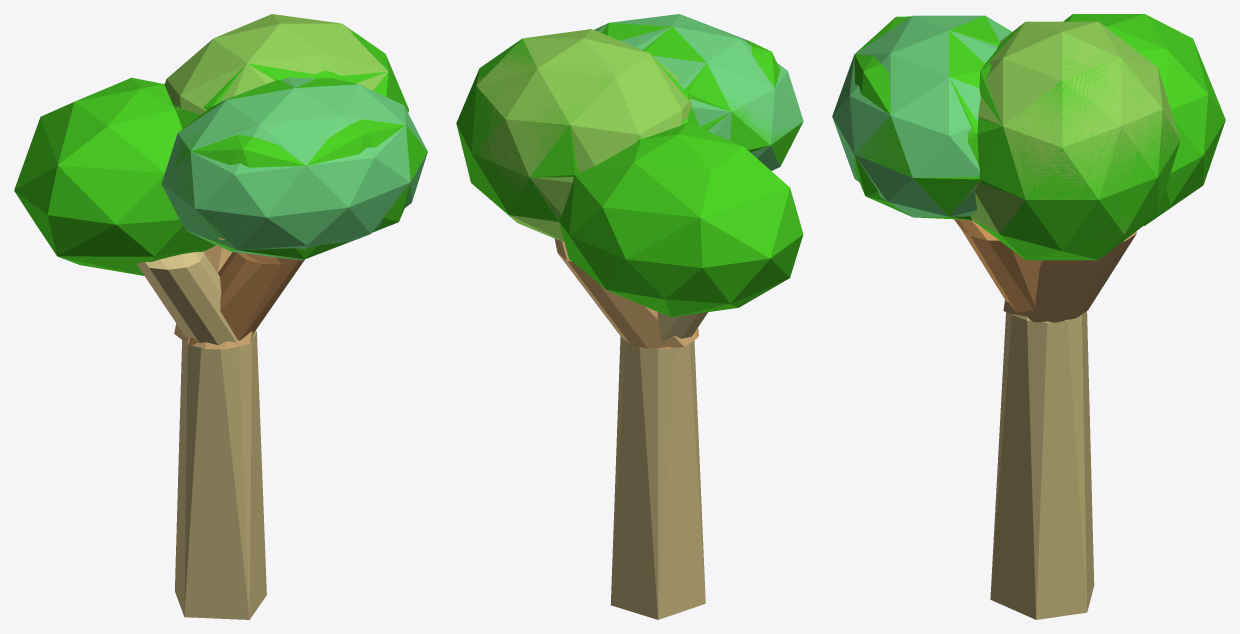
The model's file is tree.fbx.
3 views of the same model, side by side, from view 1: azimuth 30°, elevation 25°; view 2: azimuth 150°, elevation 25°; view 3: azimuth 270°, elevation 25° (orthographic). The views are drawn at different scales.
Visible parts, largest first — view 1: Icosphere.002, Icosphere.001, Cylinder, Icosphere, Cylinder.002, Cylinder.001; view 2: Icosphere.002, Cylinder, Icosphere, Icosphere.001, Cylinder.001; view 3: Icosphere.002, Cylinder, Icosphere, Icosphere.001, Cylinder.001, Cylinder.002.
Boxes of the visible parts, x1,y1,x2,y2 form: Icosphere.002: [14, 29, 427, 275]; Icosphere.001: [161, 77, 427, 260]; Cylinder: [137, 251, 266, 619]; Icosphere: [165, 14, 408, 114]; Cylinder.002: [189, 237, 304, 344]; Cylinder.001: [174, 245, 253, 349]; Icosphere.002: [456, 23, 803, 317]; Cylinder: [610, 312, 707, 619]; Icosphere: [472, 29, 691, 242]; Icosphere.001: [594, 14, 803, 170]; Cylinder.001: [554, 239, 698, 348]; Icosphere.002: [854, 14, 1225, 260]; Cylinder: [990, 311, 1094, 619]; Icosphere: [971, 21, 1179, 259]; Icosphere.001: [832, 15, 1010, 217]; Cylinder.001: [1003, 231, 1136, 322]; Cylinder.002: [954, 219, 1086, 312].
Bounding box in the file's own units: 896 × 1402 × 832.
